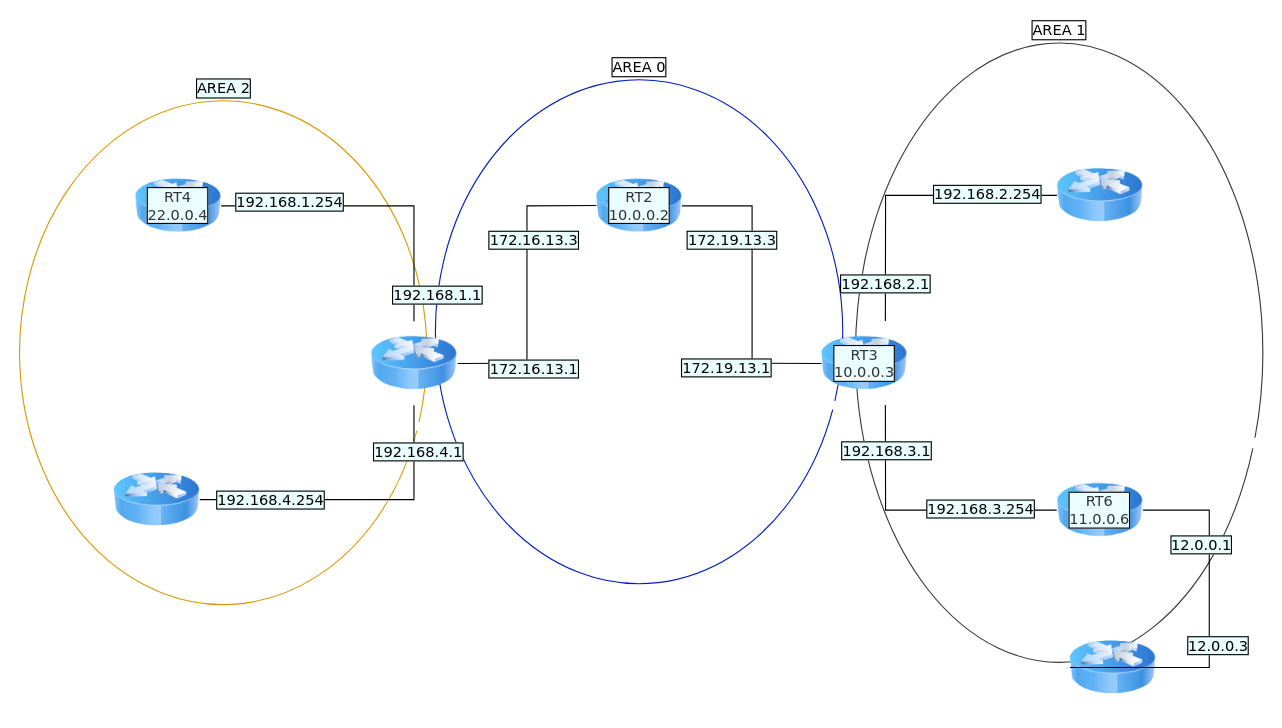
Image size: 1282x728. Some labels were removed from this diagram. Each missing label, with the centre of its shape:
RT1 10.0.0.1: (413,363)
RT5 11.0.0.5: (1099,195)
RT7 22.0.0.7: (156,499)
RT8 11.0.0.8: (1112,667)
